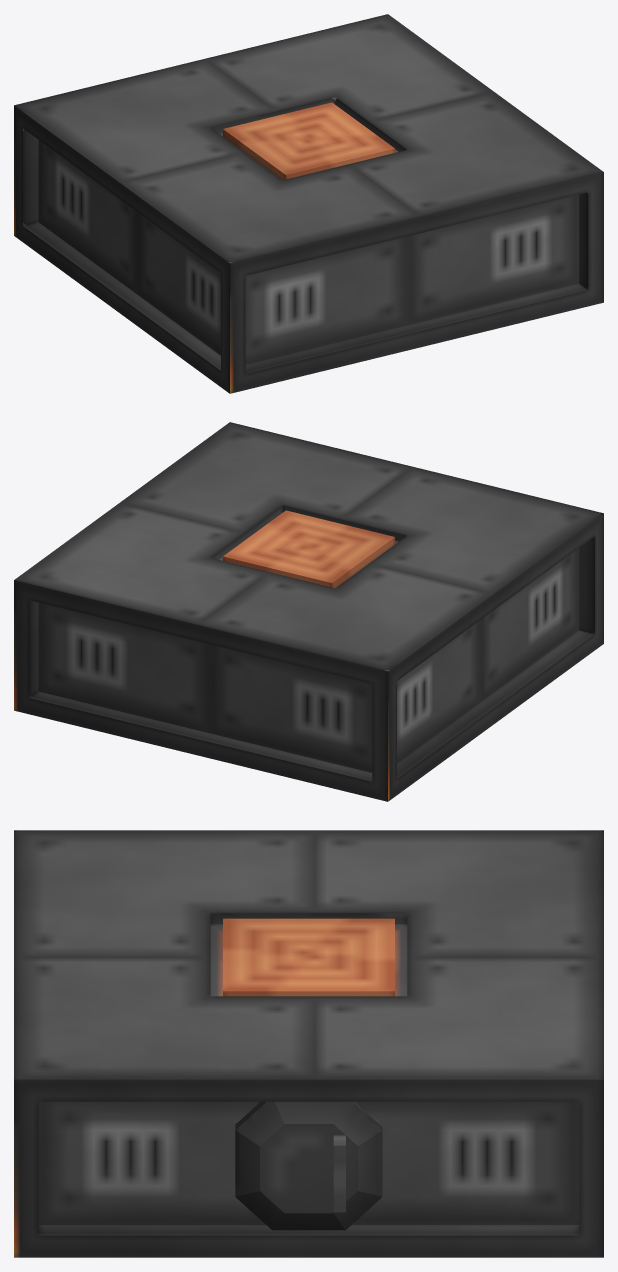
File: firebox_item.obj
3 views of the same model, one above another, from view 1: azimuth 30°, elevation 25°; view 2: azimuth 150°, elevation 25°; view 3: azimuth 270°, elevation 25° (orthographic). The views are drawn at different scales.
Visible parts, largest first — view 1: Main; view 2: Main; view 3: Main, Door.
Boxes of the visible parts, <box> form: Main: <box>14,14,603,393</box>; Main: <box>14,422,603,801</box>; Main: <box>14,830,603,1257</box>; Door: <box>235,1101,382,1230</box>.
Size of the model in its own units: 3.12 by 1 by 3.
